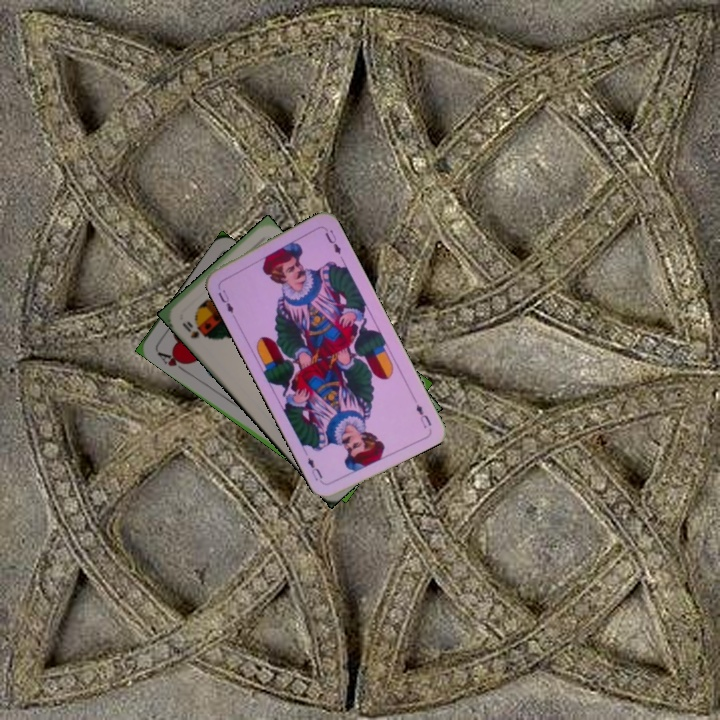EU: (410, 393, 434, 431), (214, 286, 236, 316)
HA: (153, 348, 191, 375)
SO: (178, 317, 208, 341)
